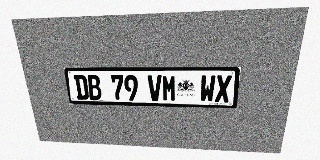7: (110, 75, 125, 100)
9: (124, 75, 139, 101)
B: (86, 75, 102, 100)
D: (73, 75, 89, 100)
M: (162, 75, 176, 101)
V: (147, 75, 162, 101)
W: (200, 75, 216, 102)
X: (215, 75, 232, 102)
